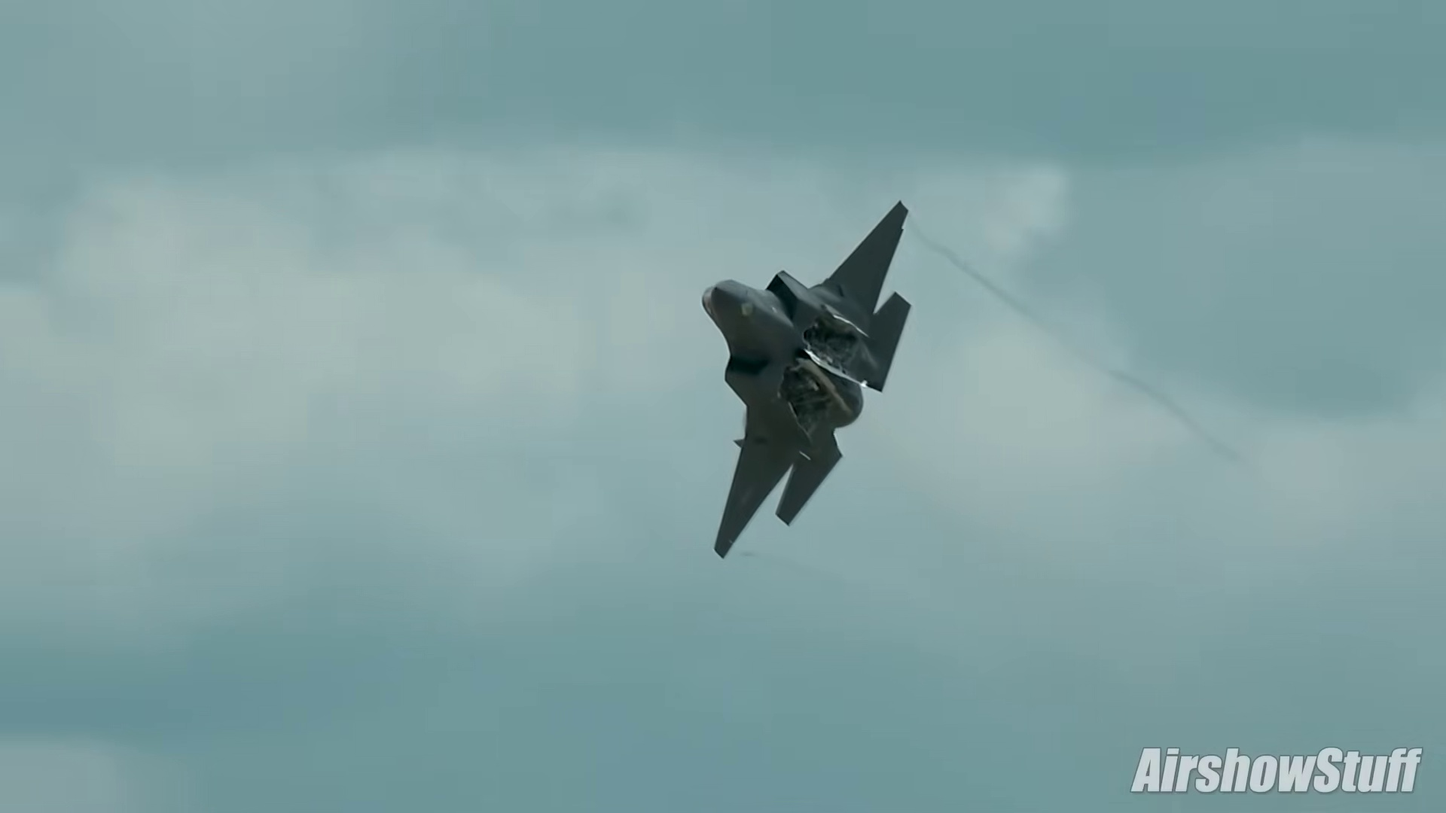F35: (698, 196, 917, 564)
